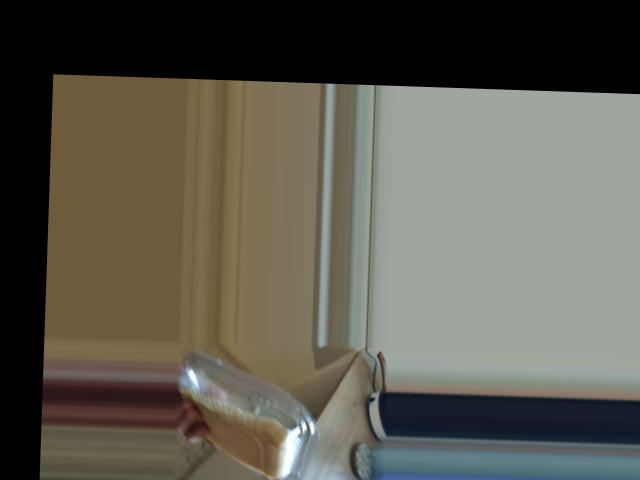cheese: (224, 373, 305, 466)
